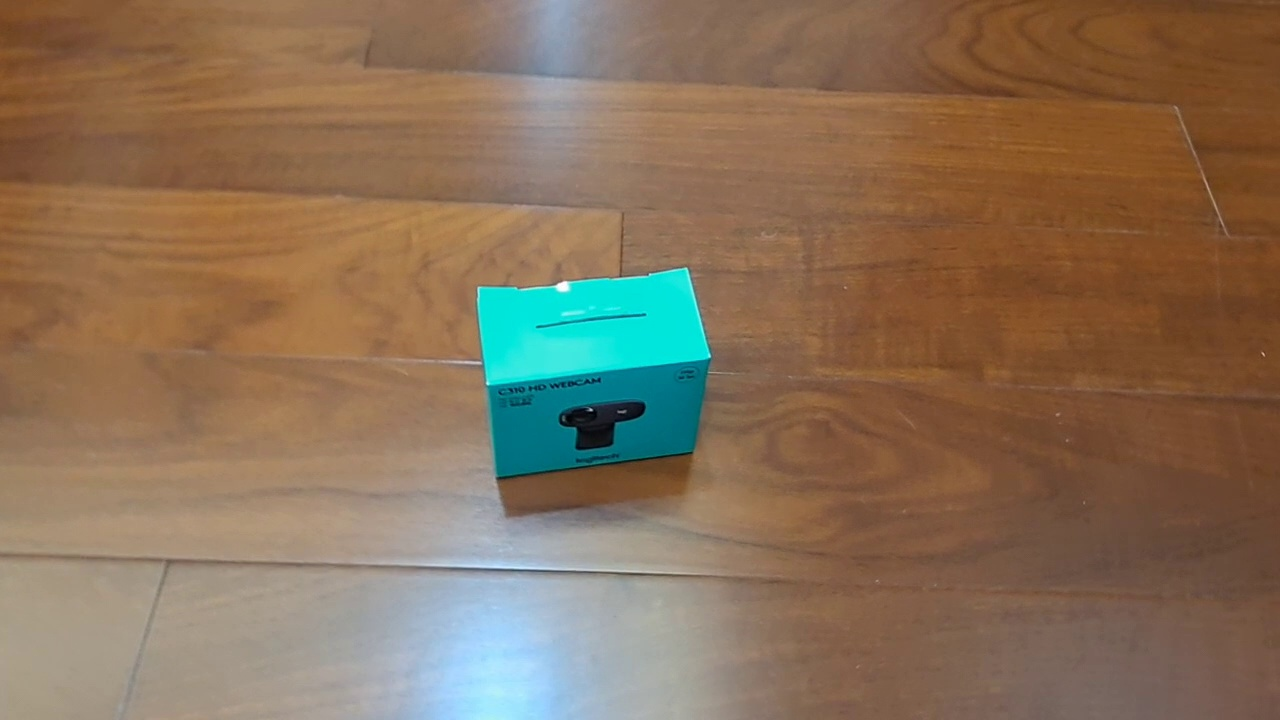webcam: (476, 266, 713, 479)
